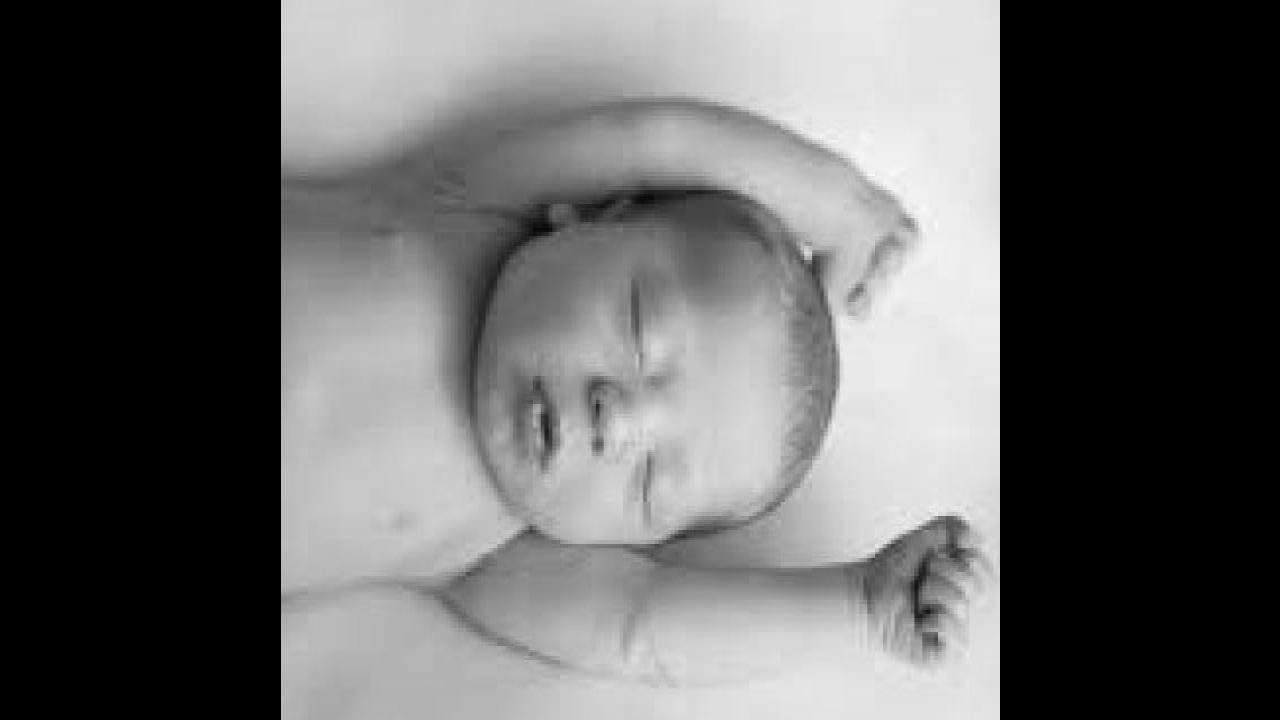hand: (858, 502, 992, 702), (814, 178, 924, 324)
